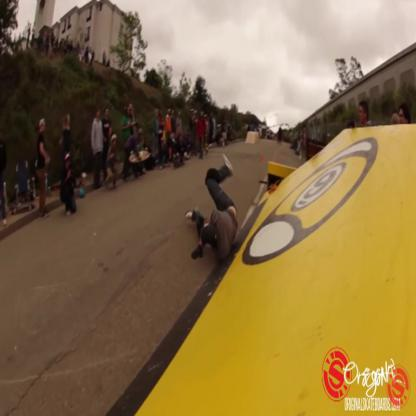Fall_Down: (181, 153, 241, 268)
